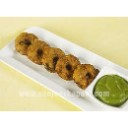vada: (27, 42, 56, 66), (56, 56, 81, 82), (41, 45, 65, 71), (75, 63, 98, 87), (15, 32, 40, 52)
